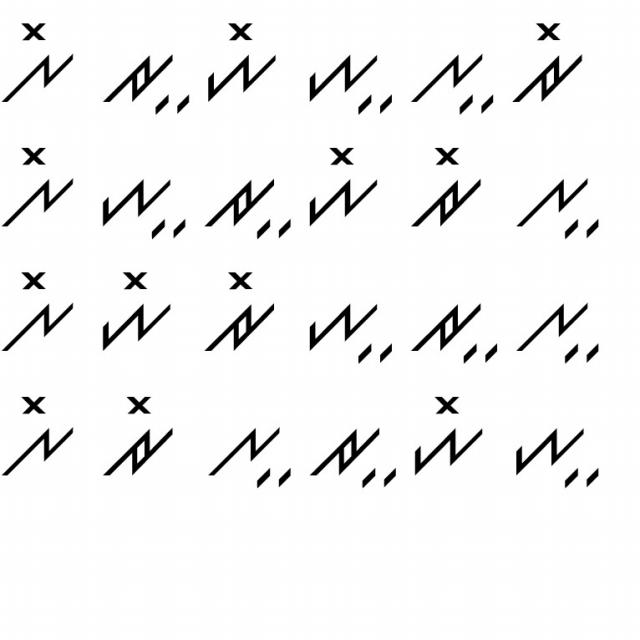lah: (509, 162, 603, 248), (510, 292, 602, 372), (202, 414, 294, 493), (409, 46, 498, 114)
lo: (2, 20, 84, 106), (3, 392, 76, 487), (2, 269, 79, 359), (2, 144, 80, 230)
rah: (305, 415, 399, 492), (100, 39, 192, 116), (408, 298, 504, 370), (203, 172, 293, 243)
ro: (202, 263, 284, 360), (405, 141, 488, 232), (98, 392, 180, 479), (508, 19, 586, 108)
yah: (299, 286, 398, 368), (295, 42, 397, 121), (93, 169, 189, 243)
yo: (506, 407, 604, 492), (297, 141, 381, 230), (198, 14, 282, 103), (94, 265, 176, 356), (403, 392, 488, 479)
